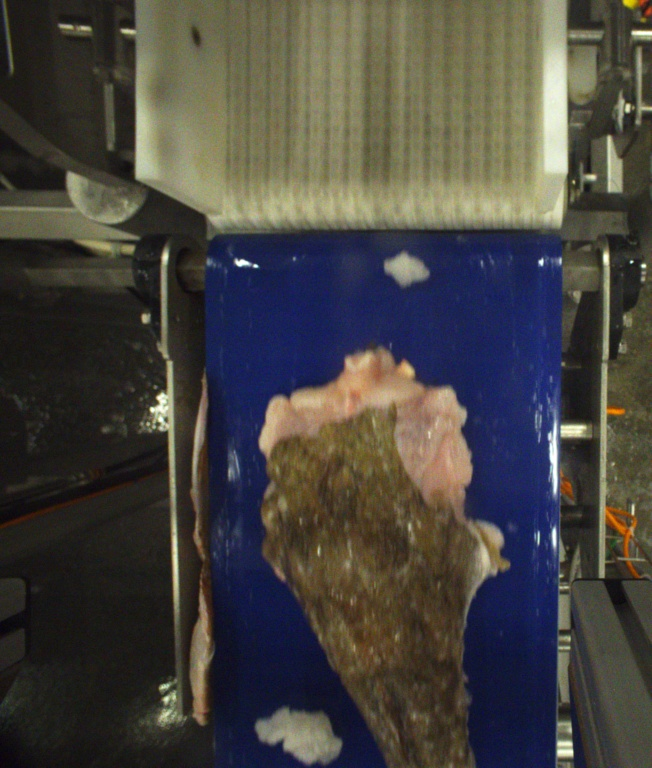ANF: (260, 345, 506, 768)
